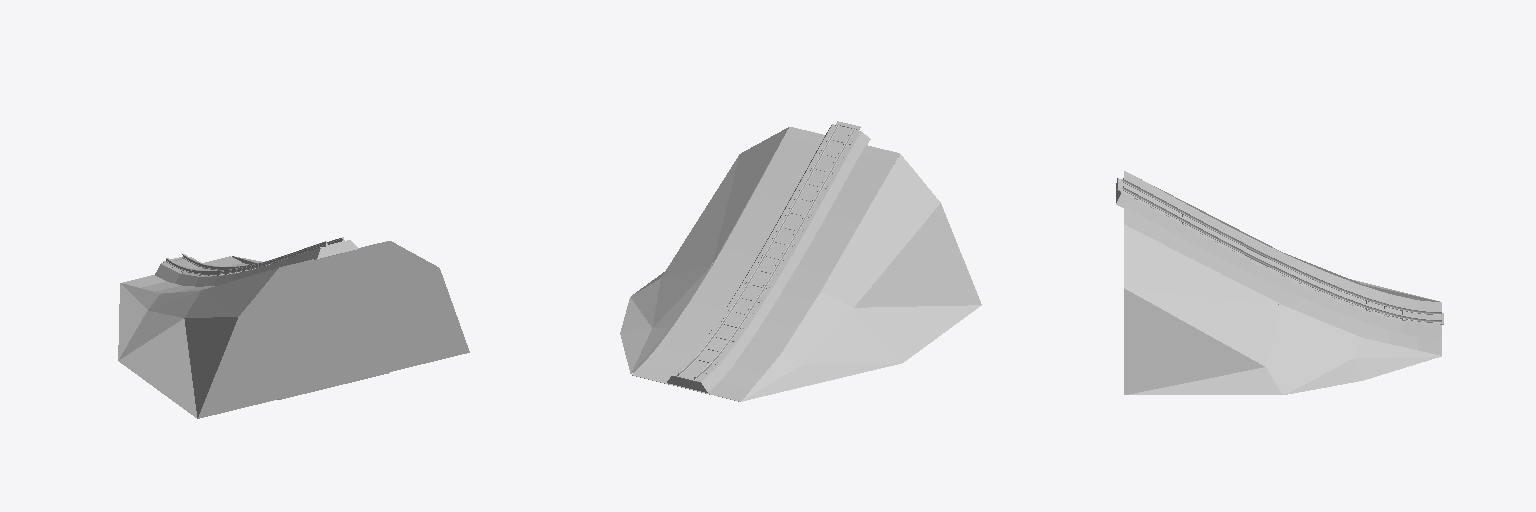
Rendered from 04_rail_incline_start.obj.
The picture shows the model from 3 angles: view 1: azimuth 30°, elevation 25°; view 2: azimuth 150°, elevation 25°; view 3: azimuth 270°, elevation 25°; orthographic projection.
Visible parts, largest first — view 1: Tile_Cube.002; view 2: Tile_Cube.002; view 3: Tile_Cube.002.
Part boxes in pixels (x1,y1,x2,y2): Tile_Cube.002: (118,237,469,418); Tile_Cube.002: (620,121,981,401); Tile_Cube.002: (1116,171,1443,394).
Size of the model in its own units: 0.9976 by 0.5168 by 1.04.